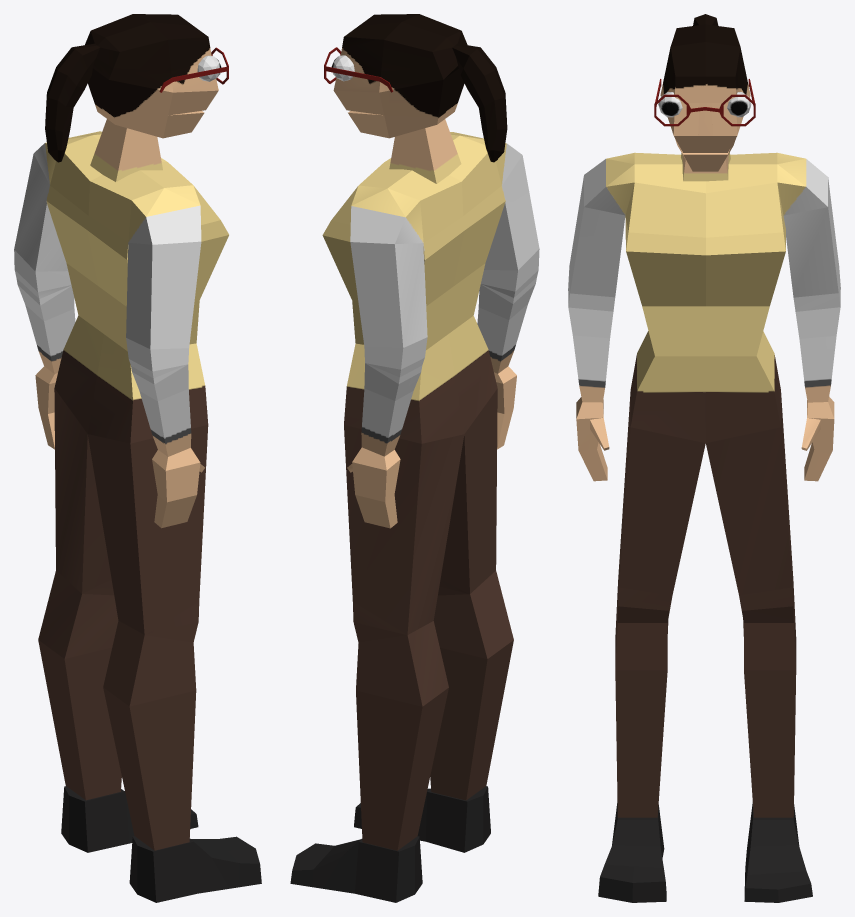
The model's file is Liv character.fbx.
3 views of the same model, side by side, from view 1: azimuth 30°, elevation 25°; view 2: azimuth 150°, elevation 25°; view 3: azimuth 270°, elevation 25° (orthographic).
Visible parts, largest first — view 1: Cube.002; view 2: Cube.002; view 3: Cube.002.
Boxes of the visible parts, box(x1,y1,x2,y2) form: Cube.002: box(14, 14, 261, 902); Cube.002: box(290, 14, 539, 902); Cube.002: box(568, 14, 840, 902).
Size of the model in its own units: 133 by 607 by 181.
